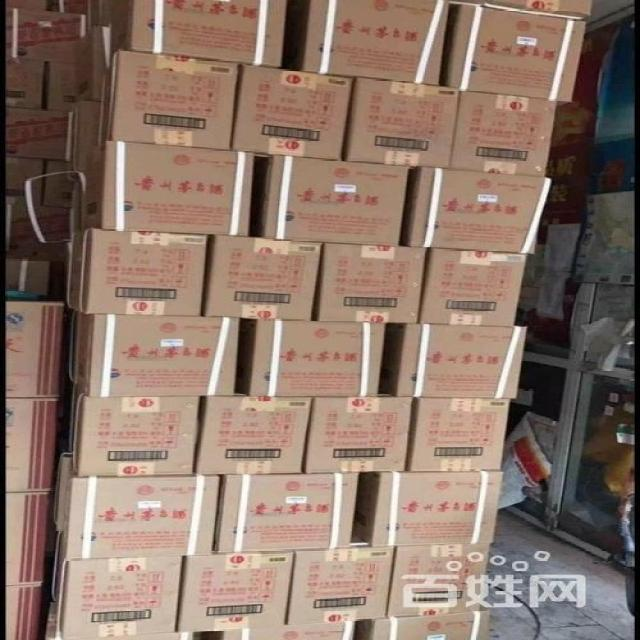box: (50, 454, 219, 558), (61, 312, 239, 397), (101, 138, 255, 236), (442, 3, 585, 104), (283, 1, 449, 87), (264, 155, 410, 248), (47, 545, 186, 638), (65, 228, 207, 318), (111, 52, 241, 149), (411, 168, 552, 255), (67, 387, 200, 477), (237, 318, 388, 397), (110, 1, 287, 68), (234, 63, 353, 161), (353, 469, 506, 545), (216, 472, 361, 552), (379, 325, 527, 401), (204, 235, 324, 322), (347, 79, 463, 168), (288, 535, 396, 626), (303, 386, 416, 472), (195, 395, 314, 475), (178, 552, 294, 633), (451, 90, 557, 176), (314, 245, 430, 323), (417, 247, 530, 326), (387, 544, 490, 620), (410, 397, 508, 471), (4, 302, 67, 398), (5, 398, 63, 493), (69, 60, 114, 175), (1, 8, 84, 62), (5, 492, 52, 586), (6, 200, 69, 262), (353, 612, 494, 639), (1, 107, 68, 160), (67, 147, 105, 236), (221, 621, 355, 640), (4, 585, 47, 640), (458, 2, 594, 19), (4, 57, 44, 110), (3, 158, 45, 205), (5, 258, 50, 297), (47, 62, 78, 108), (5, 1, 50, 10)
